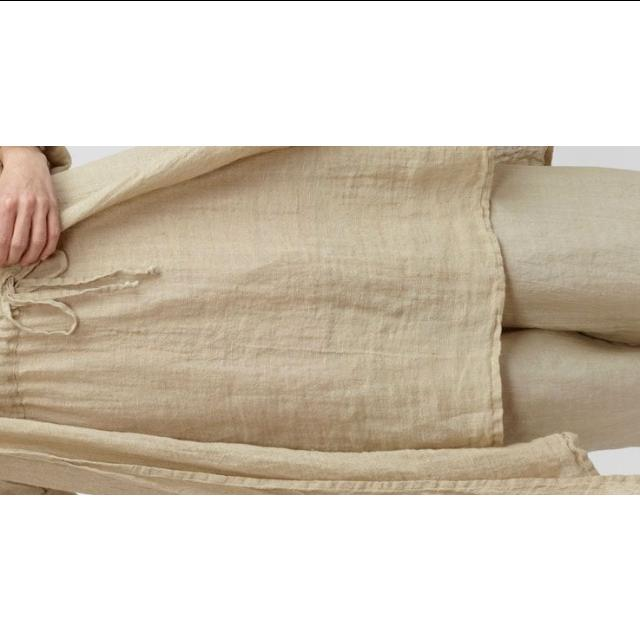linen: (0, 146, 640, 494)
